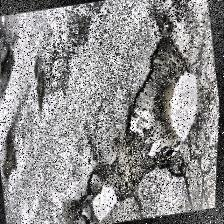pothole: (137, 60, 209, 150), (76, 178, 124, 224), (0, 46, 23, 92), (0, 15, 12, 39)
